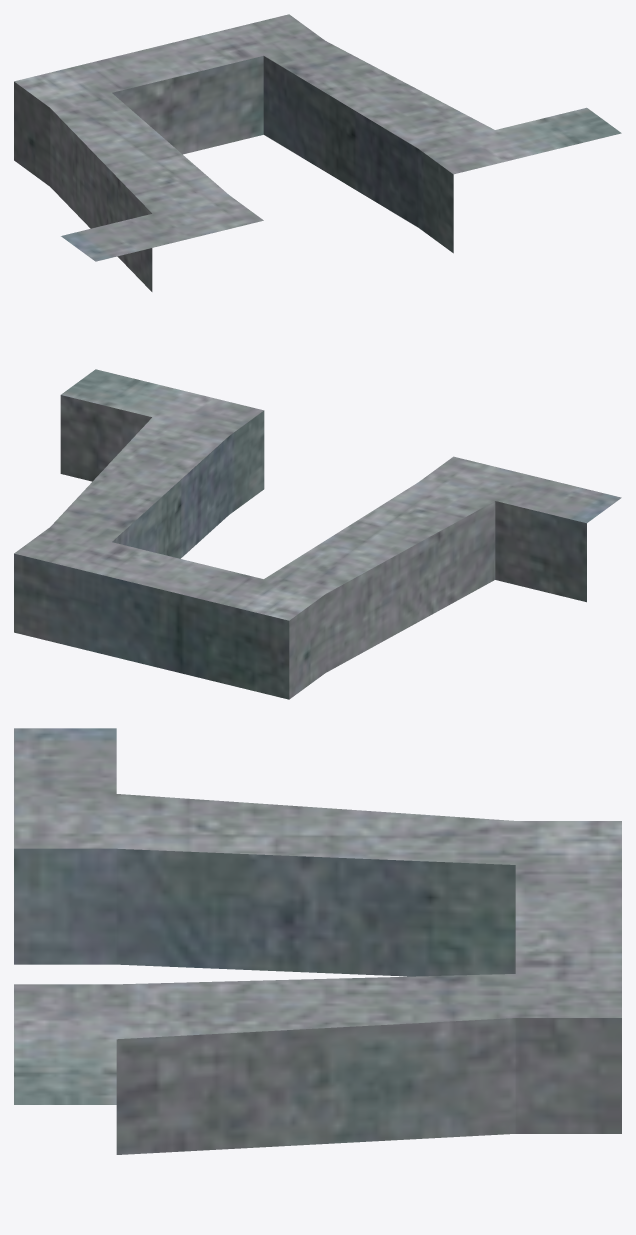
Rendered from lever.glb.
The picture shows the model from 3 angles, top to bottom: view 1: azimuth 30°, elevation 25°; view 2: azimuth 150°, elevation 25°; view 3: azimuth 270°, elevation 25°; orthographic projection. The views are drawn at different scales.
Visible parts, largest first — view 1: Cube_014; view 2: Cube_014; view 3: Cube_014.
Part boxes in pixels (x1,y1,x2,y2): Cube_014: (14,14,621,291); Cube_014: (14,369,621,699); Cube_014: (14,728,621,1154).
Size of the model in its own units: 0.1526 by 0.0224 by 0.1041.
1 material, 1 textured.
